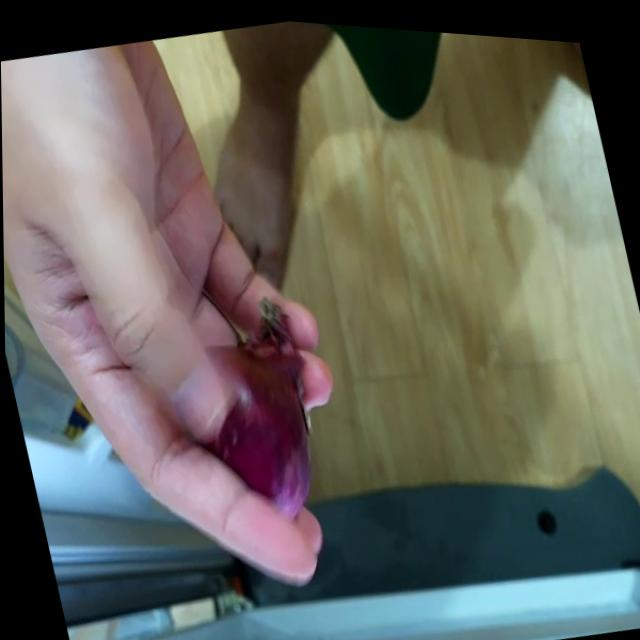onion: (169, 311, 341, 522)
